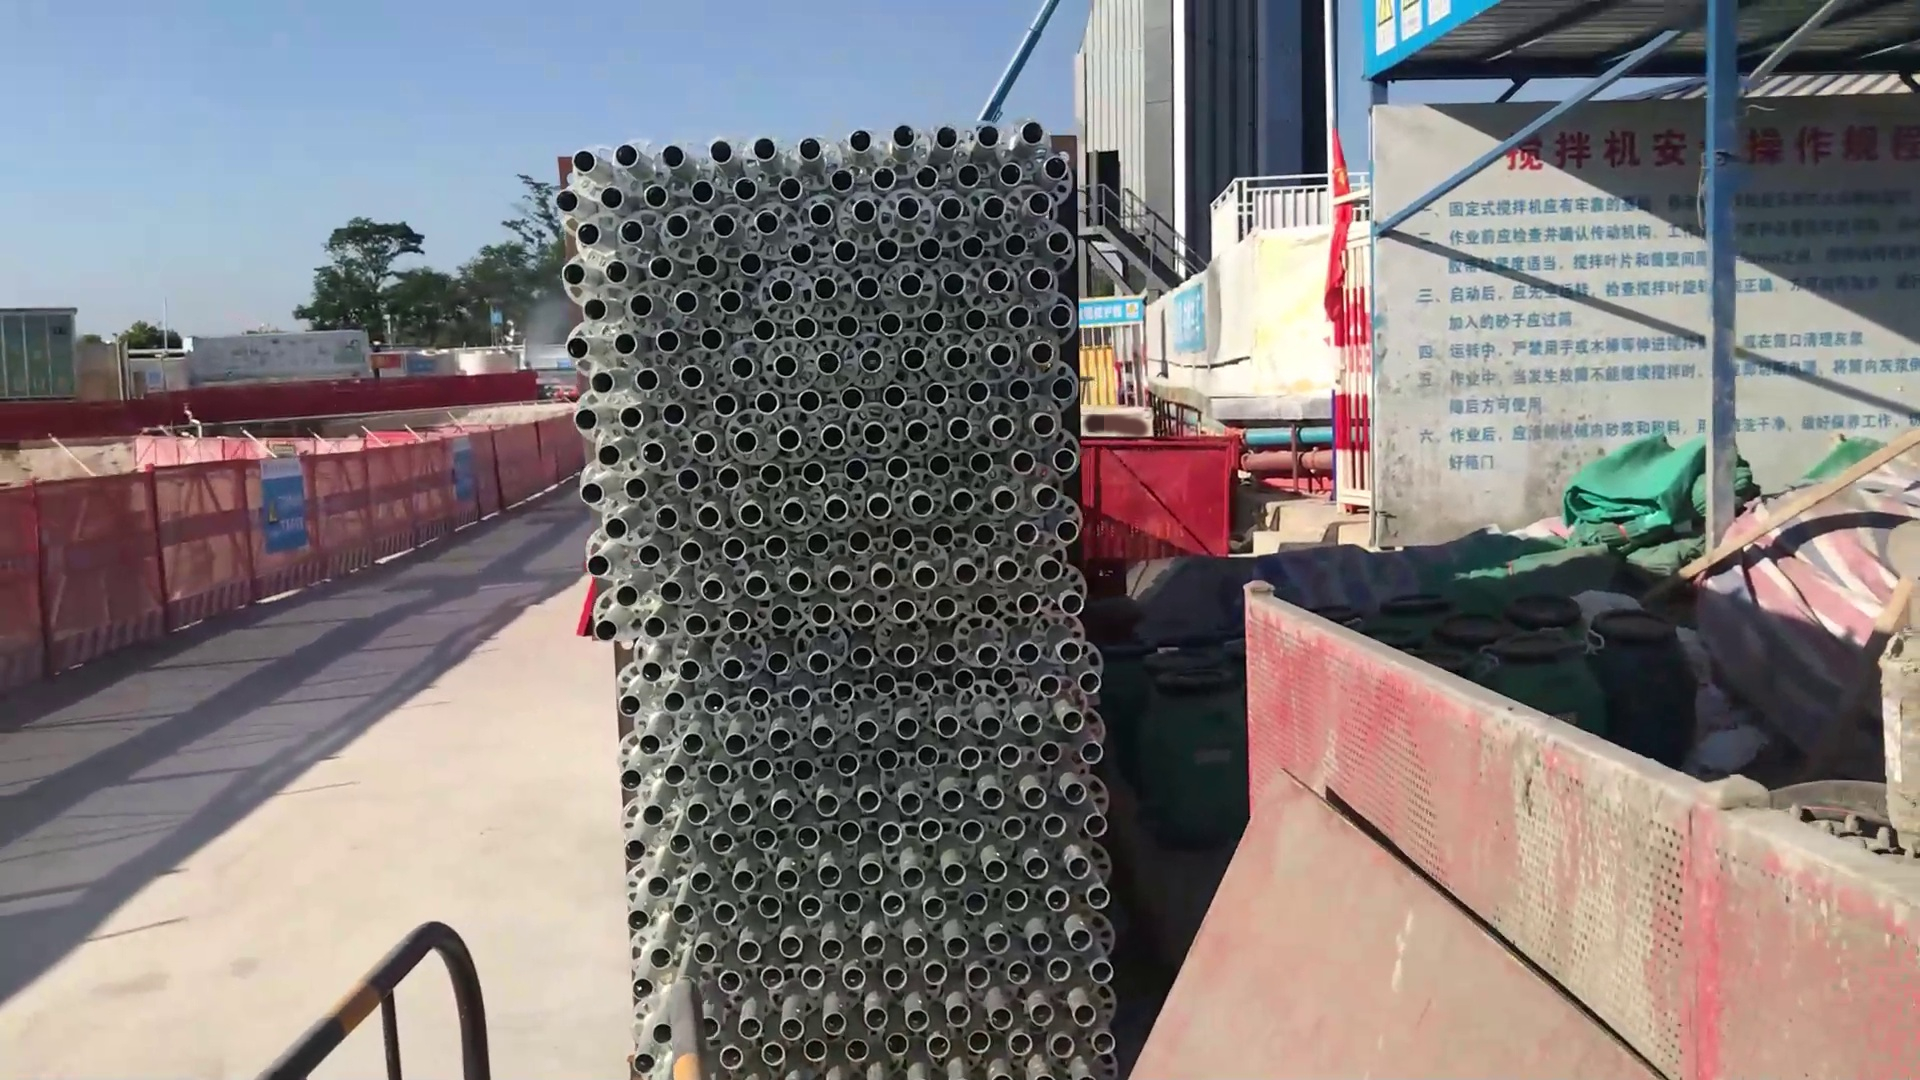fence: (1253, 585, 1920, 1080), (1, 361, 562, 699), (1087, 433, 1244, 562)
scaffold: (563, 119, 1125, 1080)
slogan: (261, 481, 307, 551)
